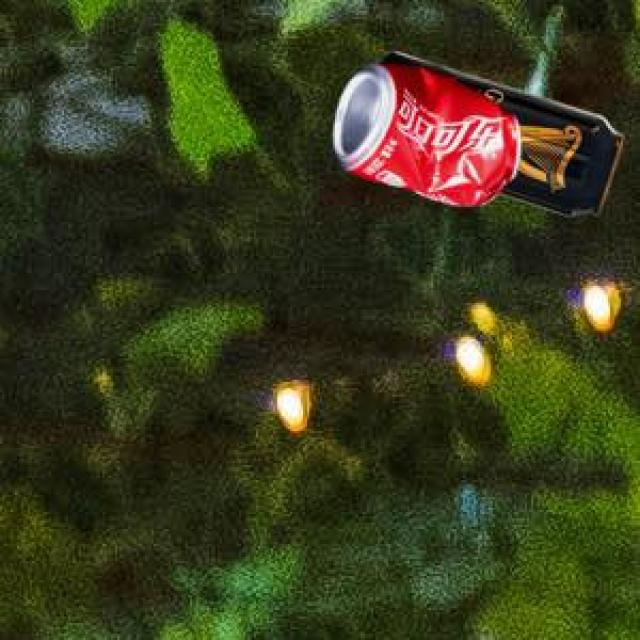logam: (377, 48, 620, 212), (330, 61, 517, 204)
